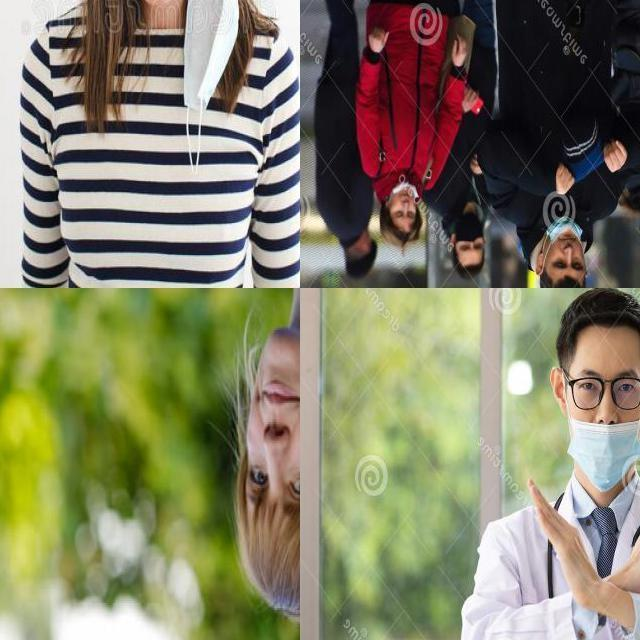hairnet: (565, 413, 640, 491), (543, 218, 588, 258), (391, 180, 419, 204)
